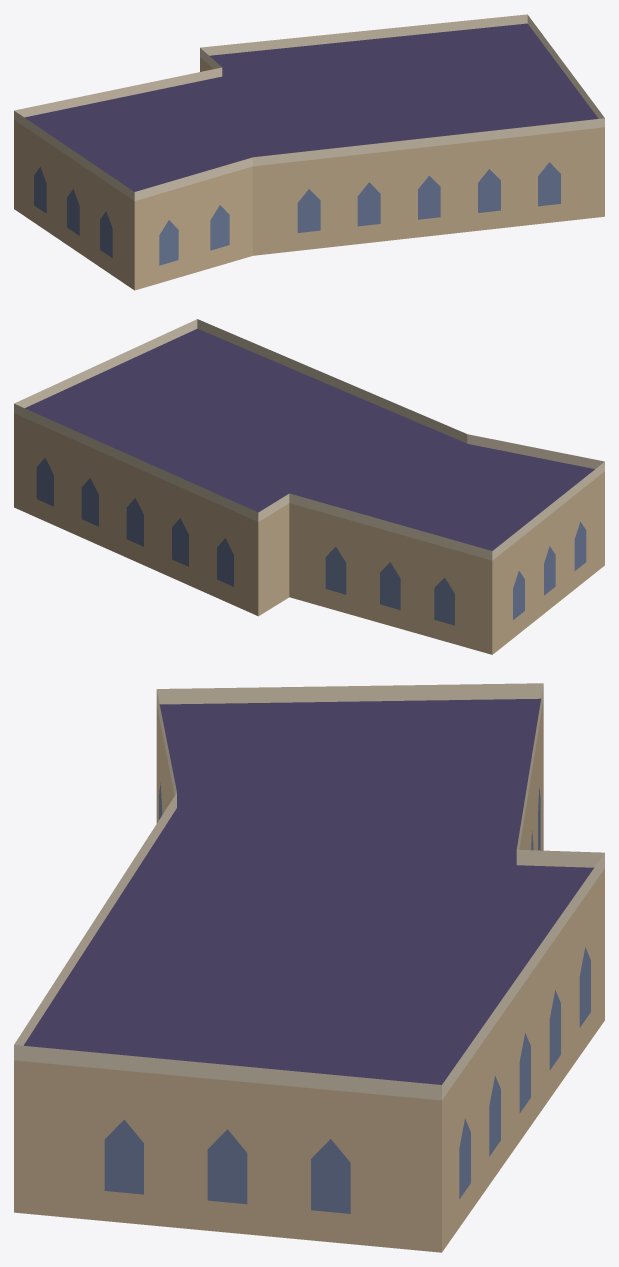
File: b-006-brough-house-day.glb
3 renders of one model, top to bottom at view 1: azimuth 30°, elevation 25°; view 2: azimuth 150°, elevation 25°; view 3: azimuth 270°, elevation 25°, orthographic. The views are drawn at different scales.
Visible parts, largest first — view 1: campus/b-006-brough-house-day-0; view 2: campus/b-006-brough-house-day-0; view 3: campus/b-006-brough-house-day-0.
Part boxes in pixels (x1,y1,x2,y2): campus/b-006-brough-house-day-0: (14,14,604,290); campus/b-006-brough-house-day-0: (14,319,604,654); campus/b-006-brough-house-day-0: (14,683,604,1252).
Size of the model in its own units: 30.57 by 5.95 by 19.
